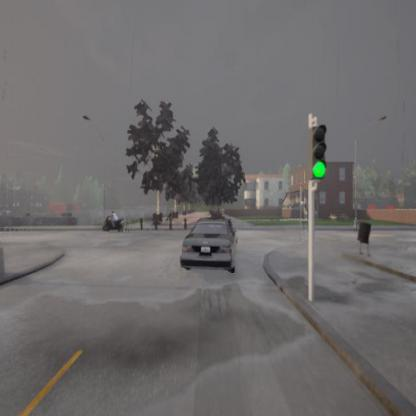motobike: (103, 212, 120, 232)
traffic_light_green: (312, 125, 328, 178)
vehicle: (180, 218, 237, 272)
